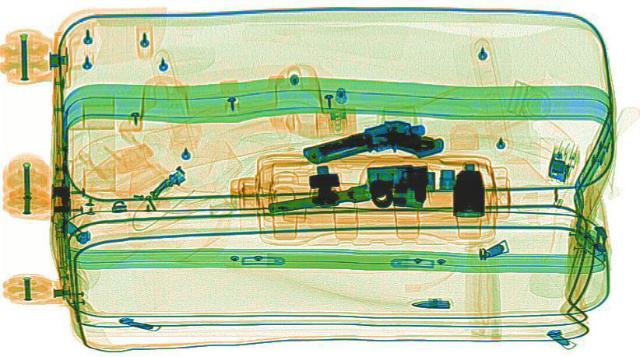Gun: (290, 111, 452, 180)
